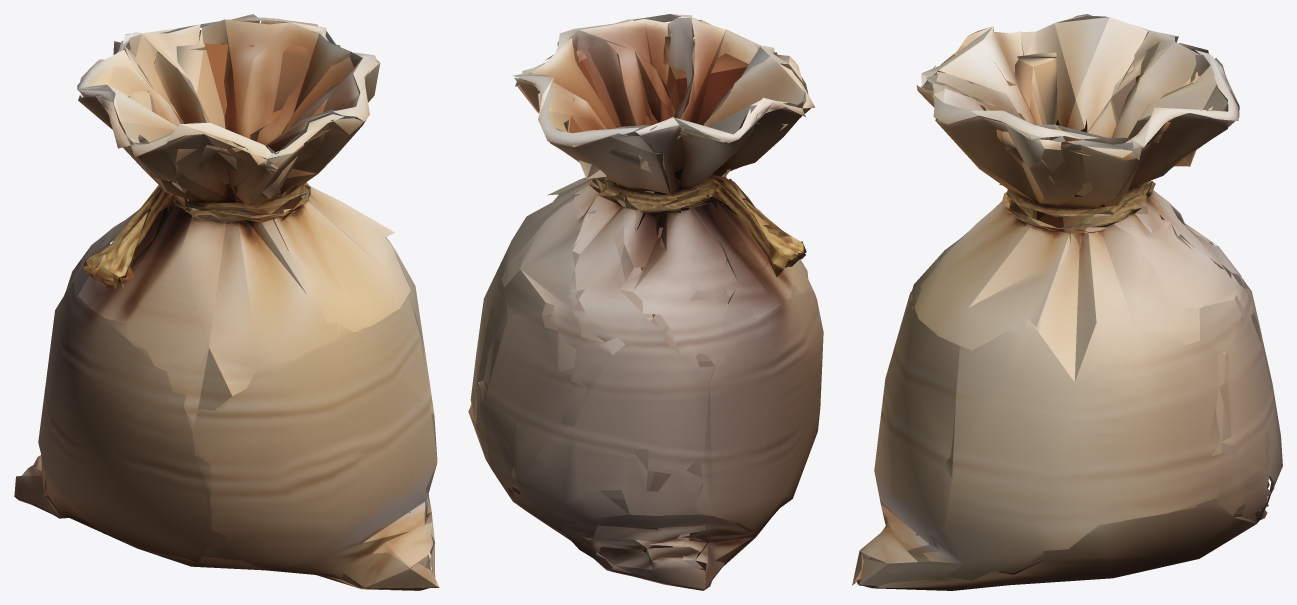
The model's file is feed_sack.fbx.
The picture shows the model from 3 angles, left to right: view 1: azimuth 30°, elevation 25°; view 2: azimuth 150°, elevation 25°; view 3: azimuth 270°, elevation 25°; orthographic projection. The views are drawn at different scales.
Parts seen in each view (by area): view 1: feed_sack; view 2: feed_sack; view 3: feed_sack.
Boxes of the visible parts, x1,y1,x2,y2 form: feed_sack: (14,14,439,590); feed_sack: (468,14,823,590); feed_sack: (852,14,1282,590).
Bounding box in the file's own units: 0.5979 × 0.8039 × 0.6672.
Materials: 1 (1 with a texture image).
